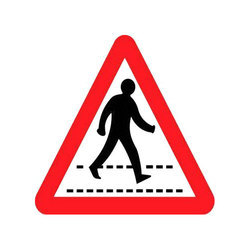pedestrian: (33, 33, 216, 215)
